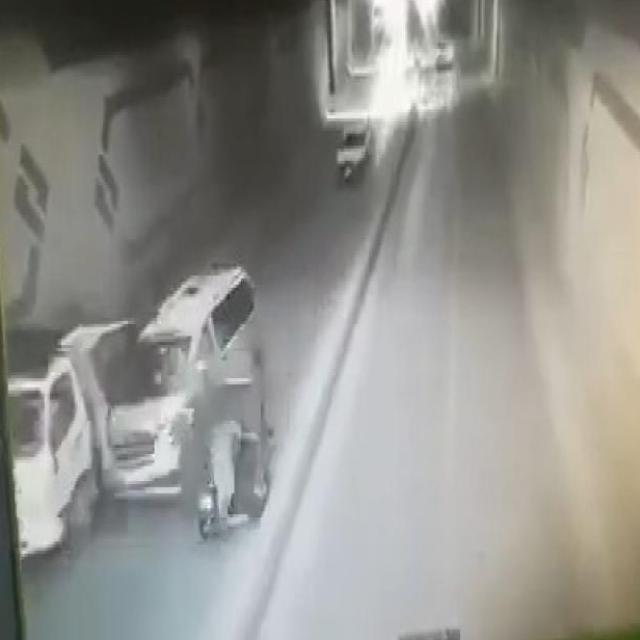accident: (102, 259, 280, 523)
